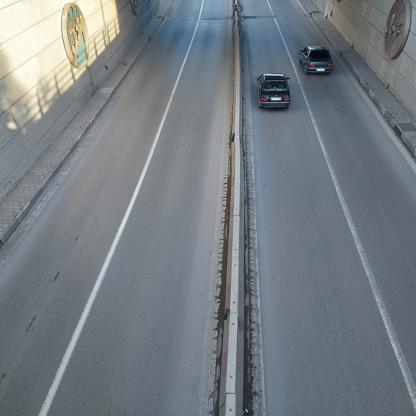Car: (257, 72, 294, 111), (299, 36, 334, 73)
